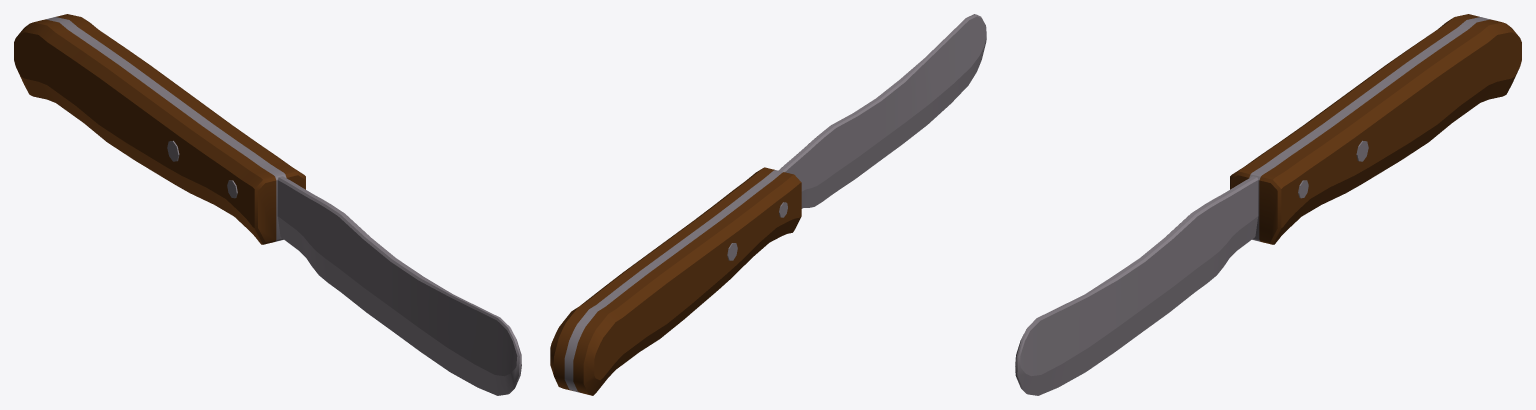
The model's file is ButterKnife_low.fbx.
3 renders of one model, left to right at view 1: azimuth 30°, elevation 25°; view 2: azimuth 150°, elevation 25°; view 3: azimuth 330°, elevation 25°, orthographic. The views are drawn at different scales.
Parts seen in each view (by area): view 1: ButterKnife_low; view 2: ButterKnife_low; view 3: ButterKnife_low.
Boxes of the visible parts, x1,y1,x2,y2 form: ButterKnife_low: (14,14,521,395); ButterKnife_low: (550,14,986,395); ButterKnife_low: (1015,14,1521,395).
Bounding box in the file's own units: 42.01 × 77.48 × 658.
